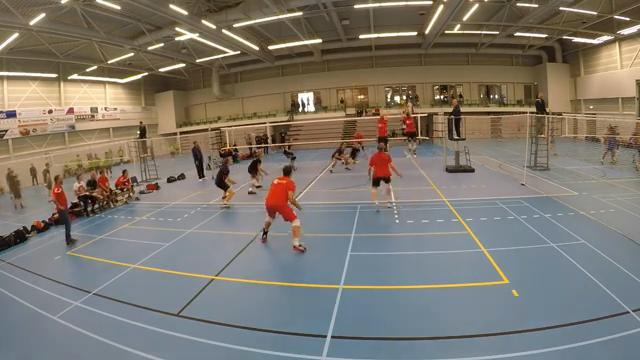Block: (397, 103, 424, 160), (371, 108, 396, 157)
Player: (261, 165, 305, 252), (368, 144, 401, 206), (215, 157, 235, 207), (248, 151, 267, 194), (329, 143, 350, 172), (283, 145, 296, 170), (347, 142, 360, 163), (354, 129, 365, 151)
